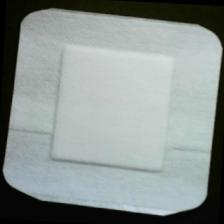Dressing: (1, 5, 224, 223)
